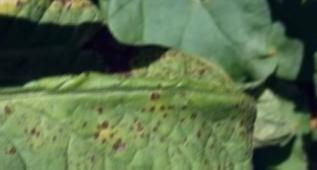Tomato Early blight leaf: (0, 0, 264, 170)
